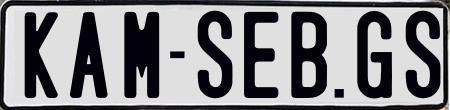A: (69, 11, 113, 103)
B: (291, 10, 333, 97)
E: (242, 11, 278, 102)
G: (355, 8, 392, 102)
K: (22, 12, 55, 98)
M: (121, 10, 158, 100)
S: (195, 11, 232, 99), (406, 10, 435, 100)
